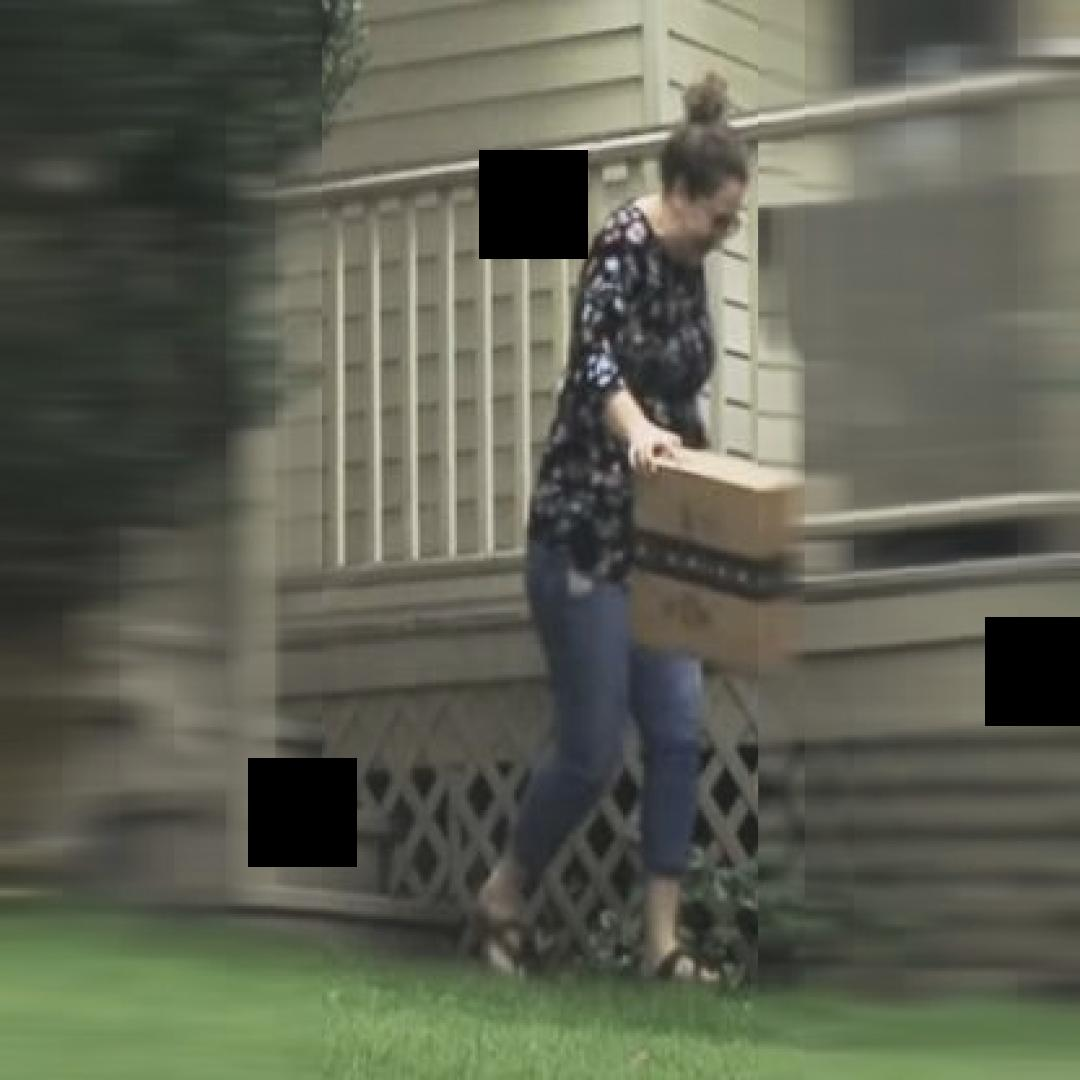package: (626, 439, 808, 683)
